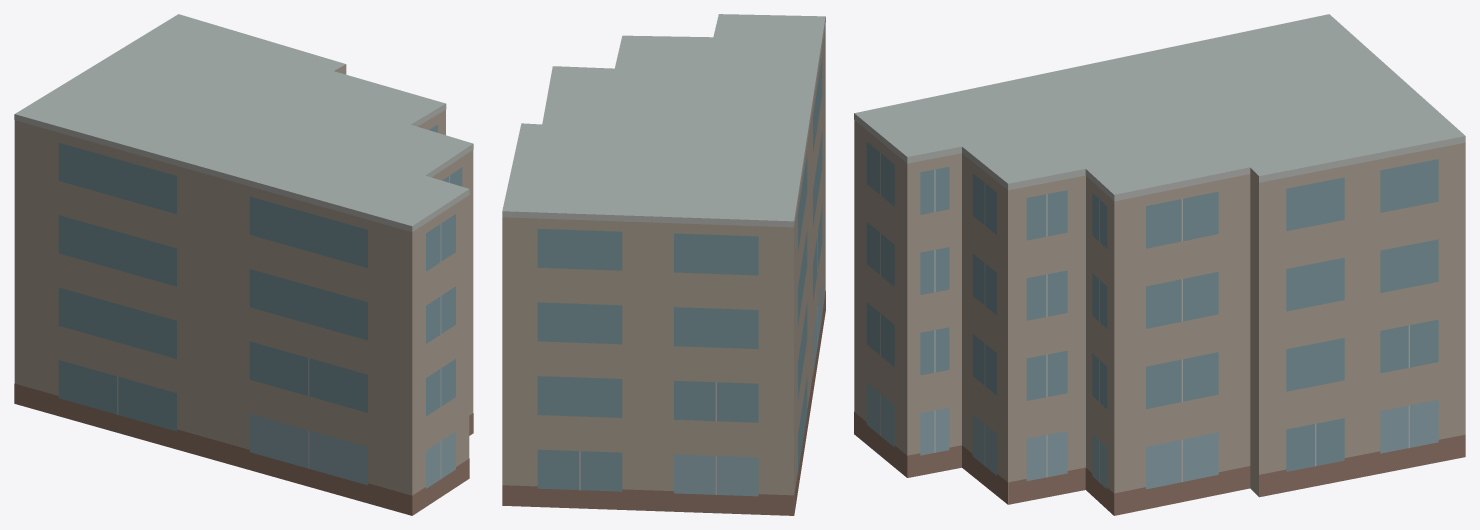
Rendered from survey-upis-32994852.glb.
3 views of the same model, side by side, from view 1: azimuth 30°, elevation 25°; view 2: azimuth 150°, elevation 25°; view 3: azimuth 270°, elevation 25° (orthographic). The views are drawn at different scales.
Visible parts, largest first — view 1: survey-upis-32994852.tmp; view 2: survey-upis-32994852.tmp; view 3: survey-upis-32994852.tmp.
Boxes of the visible parts, x1,y1,x2,y2 form: survey-upis-32994852.tmp: [14, 14, 473, 515]; survey-upis-32994852.tmp: [502, 14, 825, 515]; survey-upis-32994852.tmp: [854, 14, 1465, 515].
Bounding box in the file's own units: 14.39 × 11.9 × 20.56.
